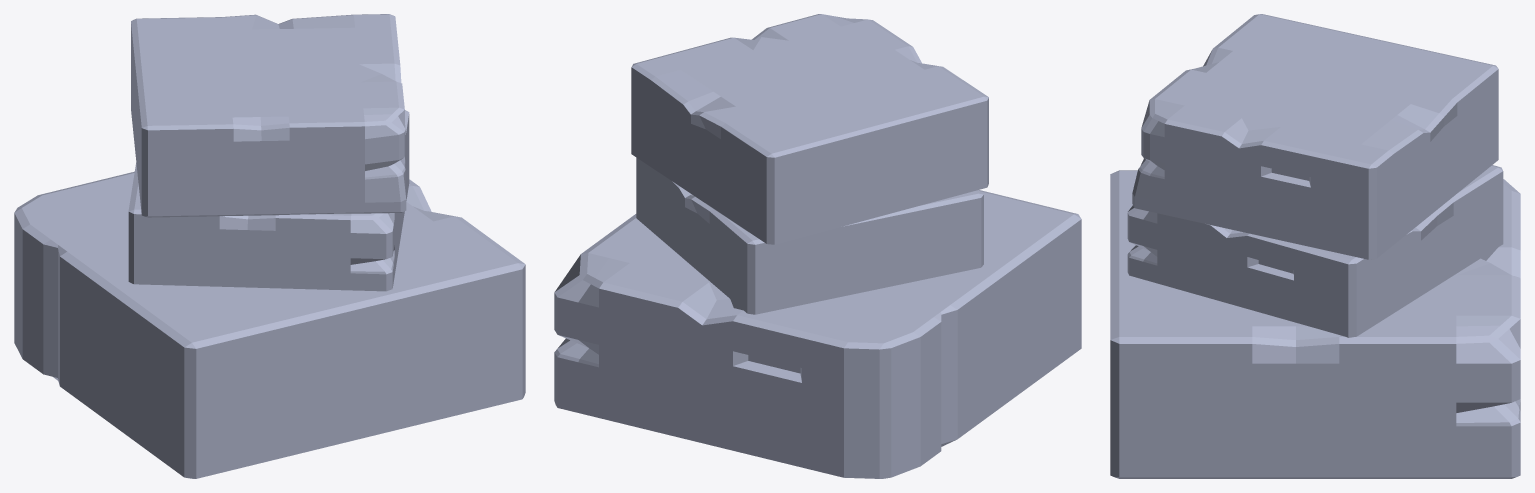
Rendered from Stone_1.fbx.
The picture shows the model from 3 angles, left to right: view 1: azimuth 30°, elevation 25°; view 2: azimuth 150°, elevation 25°; view 3: azimuth 270°, elevation 25°; orthographic projection. The views are drawn at different scales.
Parts seen in each view (by area): view 1: Stone_1; view 2: Stone_1; view 3: Stone_1.
Part boxes in pixels (box(x1,y1,x2,y2)): Stone_1: box(14, 14, 525, 478); Stone_1: box(554, 14, 1081, 478); Stone_1: box(1110, 14, 1520, 478).
Bounding box in the file's own units: 102 × 84.82 × 102.
